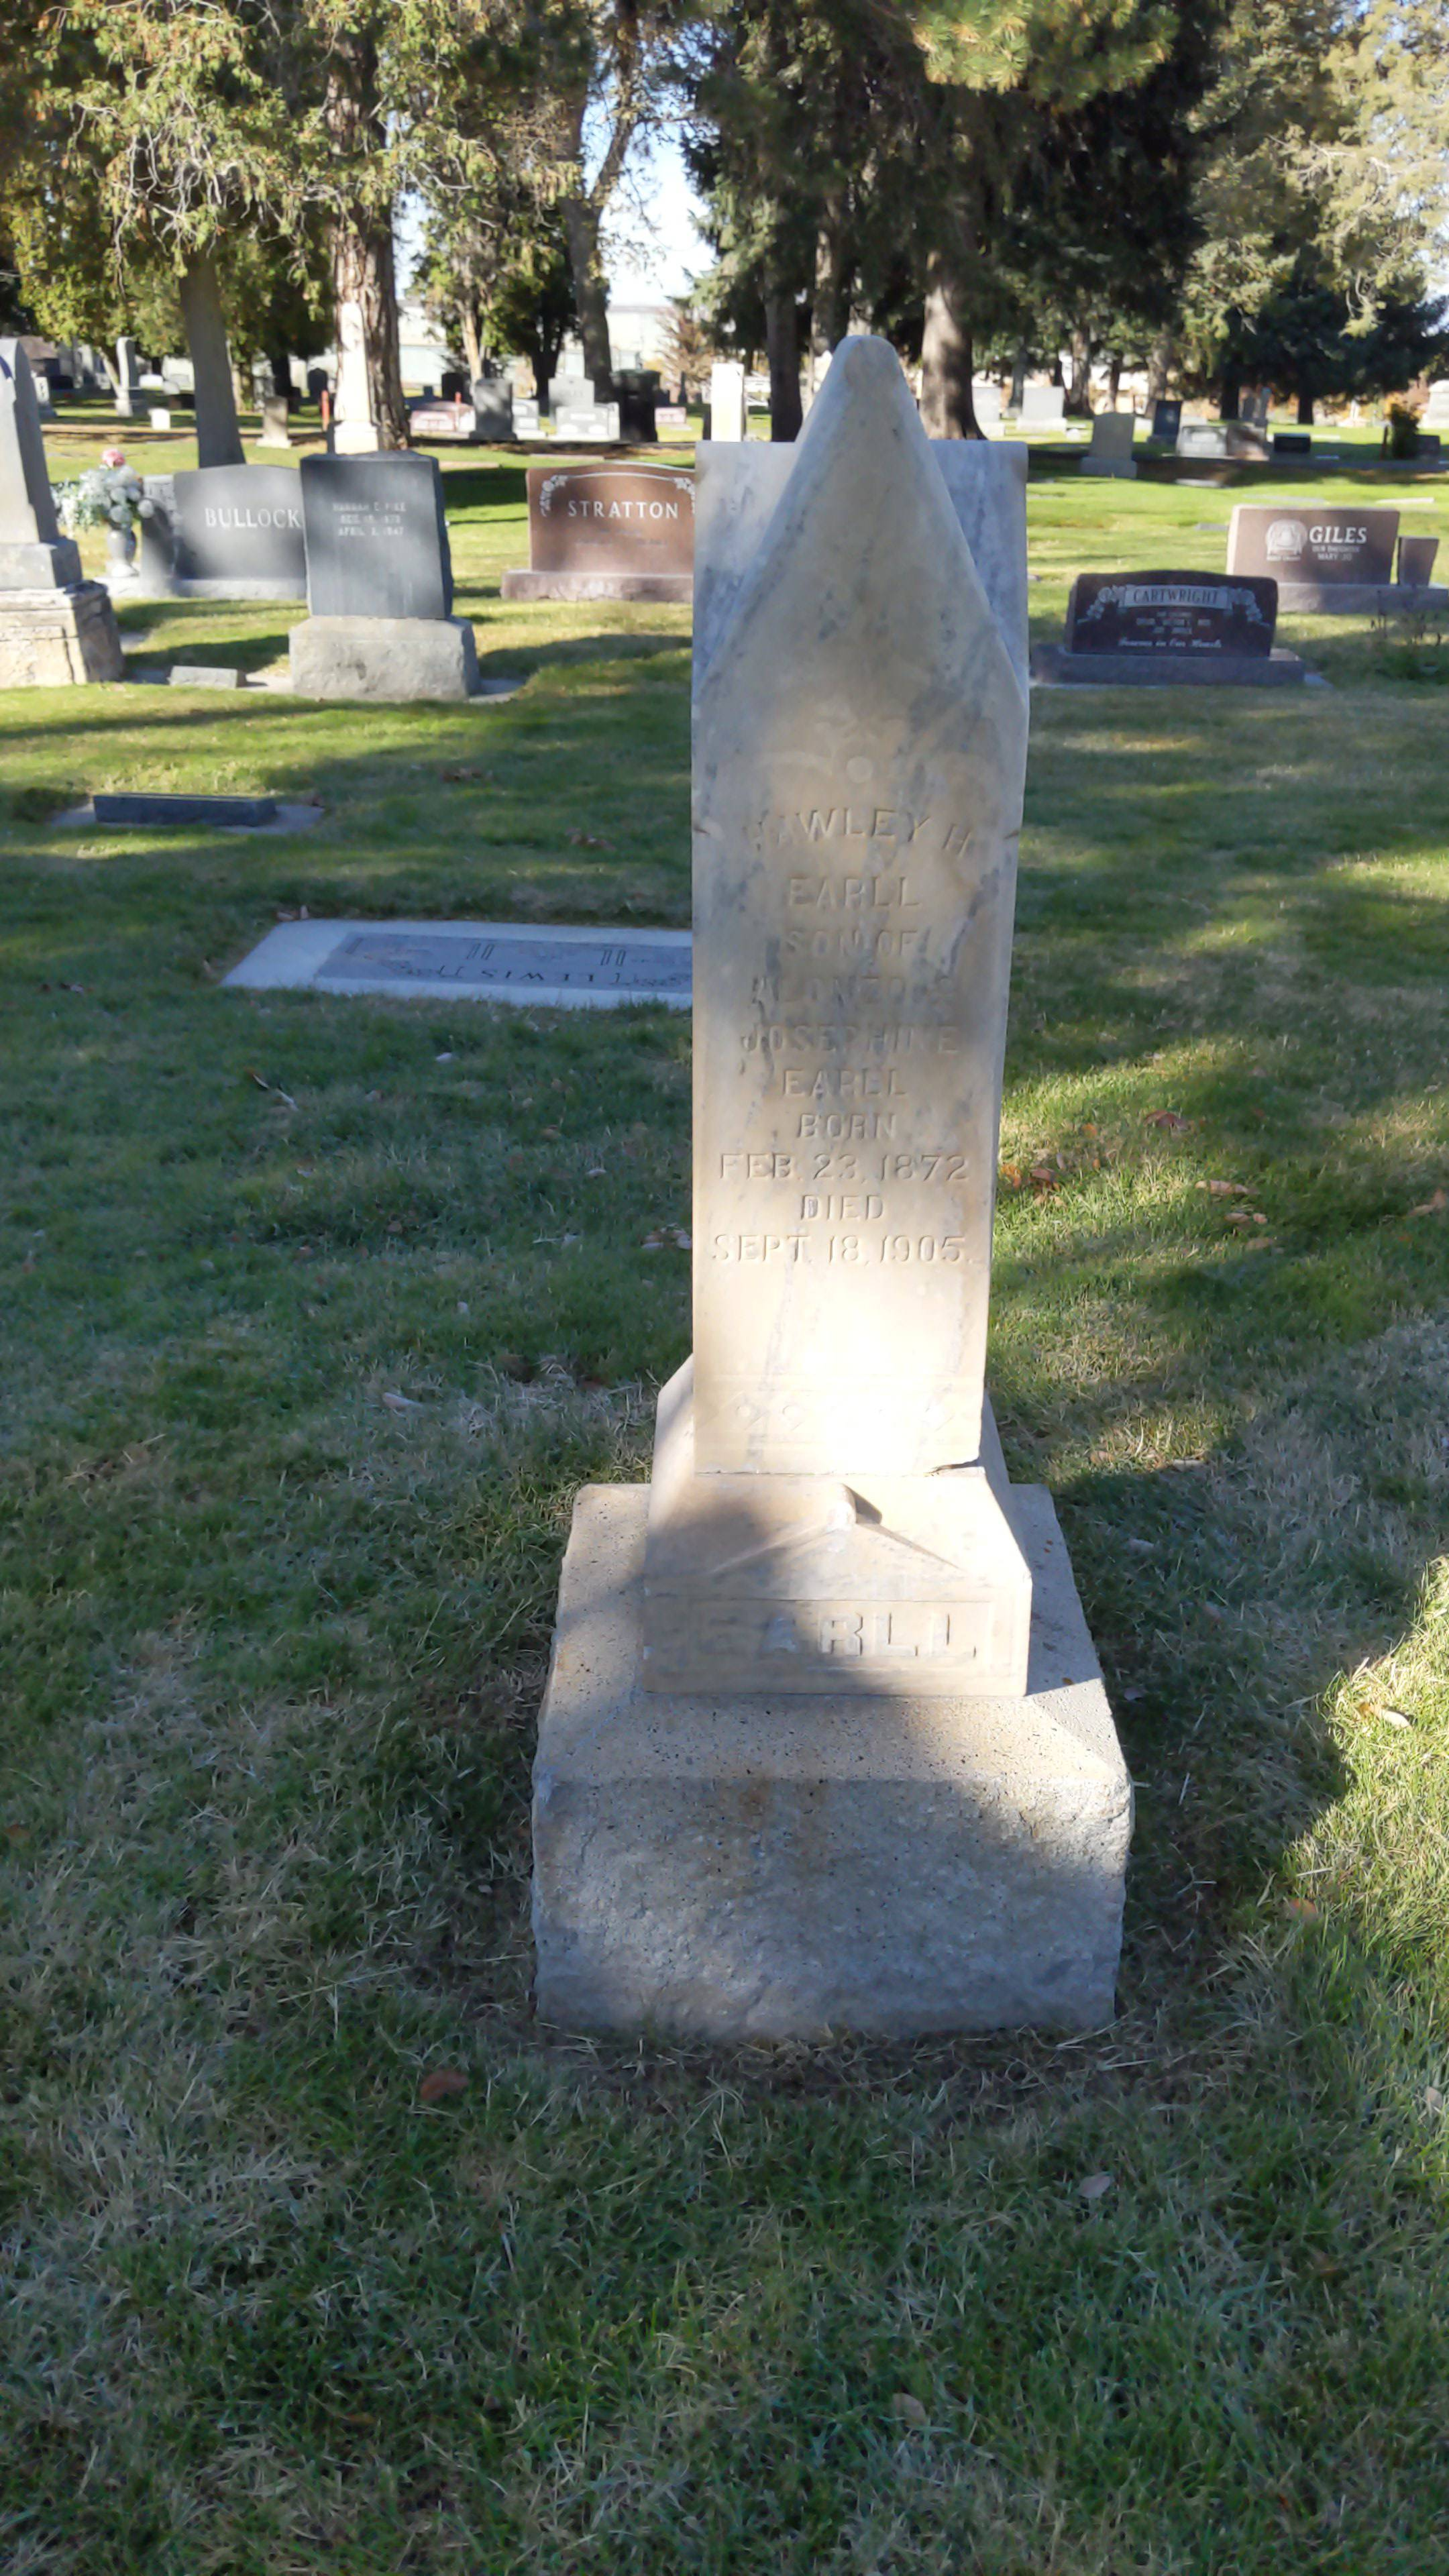obelisk: (621, 324, 1039, 1700)
